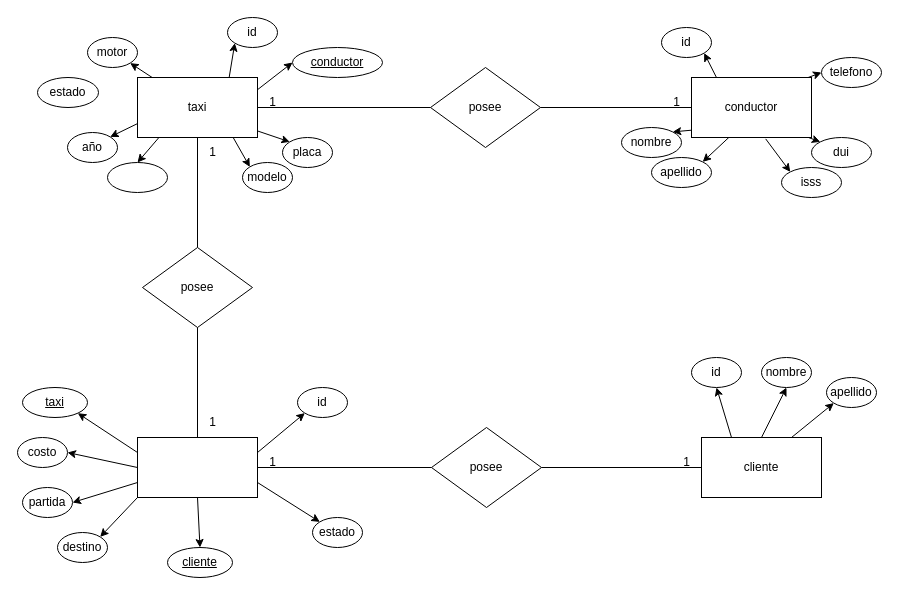
Image size: 899x595. Some labels were removed from this diagram. Here are the shapes that lost their labels. From the top down, the centre of each, then its label:
[137,177]: categoria
[197,467]: viaje
